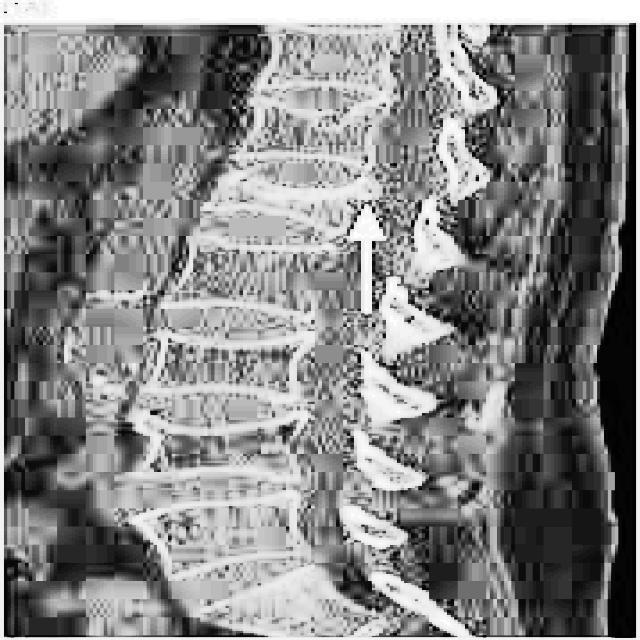Compression-Crush Fracutre: (228, 143, 376, 215)
